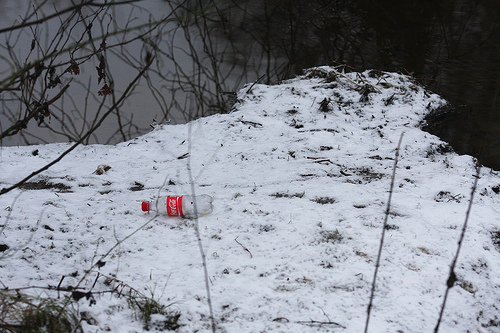litter: (140, 195, 212, 215)
